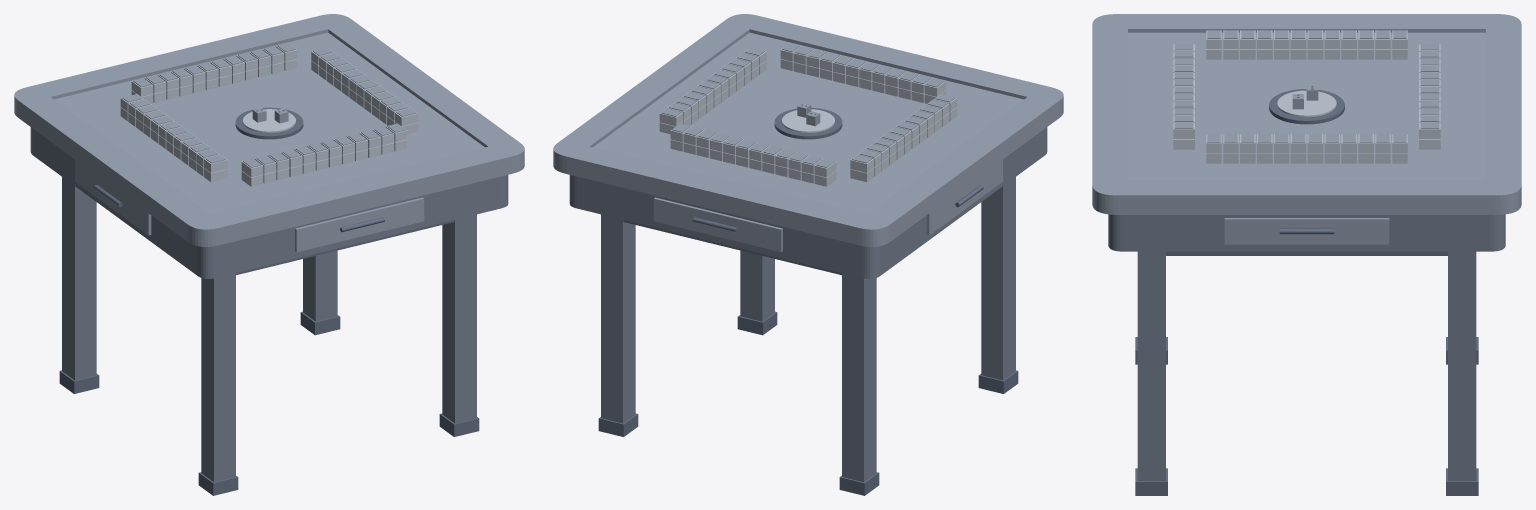
Rendered from mahjong-table.glb.
3 views of the same model, side by side, from view 1: azimuth 30°, elevation 25°; view 2: azimuth 150°, elevation 25°; view 3: azimuth 270°, elevation 25° (orthographic). The views are drawn at different scales.
Parts seen in each view (by area): view 1: mahjong-table-accent, mahjong-table-frame, mahjong-table-soft, mahjong-table-light, mahjong-table-dark; view 2: mahjong-table-accent, mahjong-table-frame, mahjong-table-soft, mahjong-table-light, mahjong-table-dark; view 3: mahjong-table-accent, mahjong-table-soft, mahjong-table-frame, mahjong-table-light, mahjong-table-dark.
Boxes of the visible parts, x1,y1,x2,y2 form: mahjong-table-accent: (14, 14, 524, 252); mahjong-table-frame: (30, 127, 508, 482); mahjong-table-soft: (54, 32, 484, 214); mahjong-table-light: (120, 45, 418, 186); mahjong-table-dark: (59, 107, 479, 495); mahjong-table-accent: (553, 14, 1063, 252); mahjong-table-frame: (569, 127, 1047, 482); mahjong-table-soft: (593, 32, 1023, 214); mahjong-table-light: (659, 45, 957, 186); mahjong-table-dark: (598, 104, 1018, 495); mahjong-table-accent: (1092, 14, 1521, 244); mahjong-table-soft: (1128, 32, 1485, 180); mahjong-table-frame: (1108, 214, 1505, 480); mahjong-table-light: (1173, 30, 1440, 163); mahjong-table-dark: (1135, 86, 1478, 495).
Bounding box in the file's own units: 0.94 × 0.815 × 0.94.
